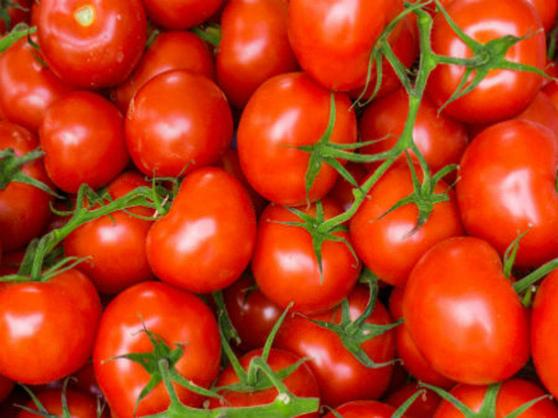tomato: (396, 236, 530, 385), (238, 75, 363, 209), (96, 281, 221, 408), (148, 169, 263, 297), (457, 118, 558, 253), (432, 1, 545, 115), (130, 72, 235, 181)
